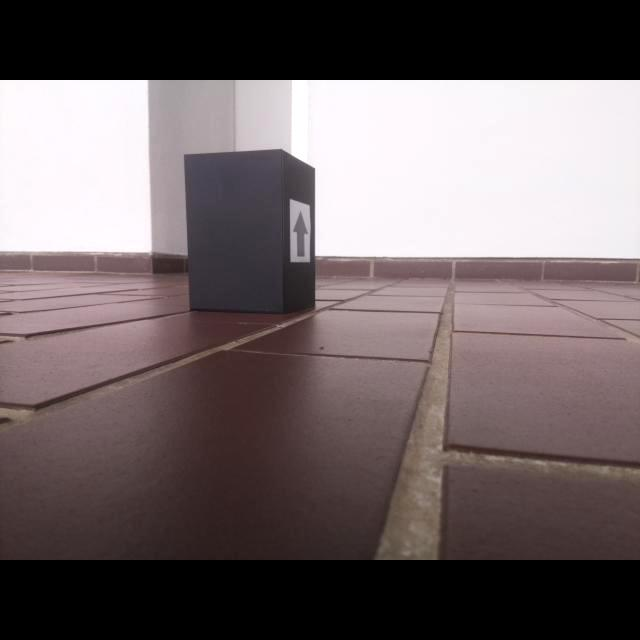UP: (292, 210, 309, 257)
